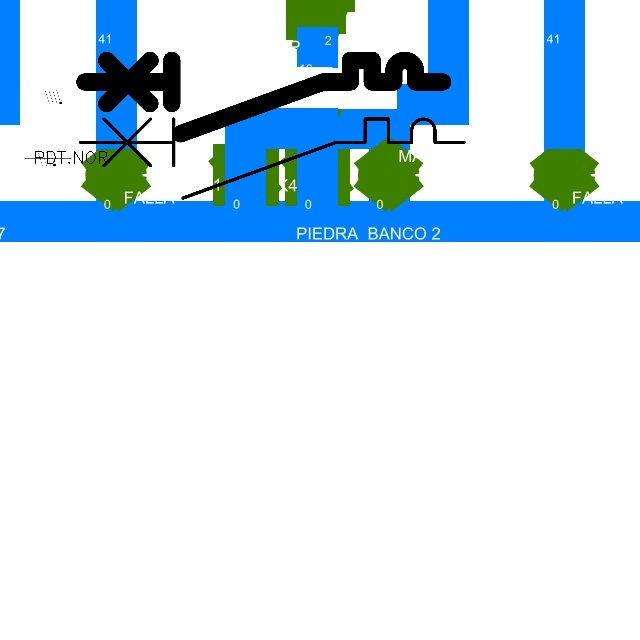interruptor_termomagnetico: (70, 109, 474, 207), (75, 51, 451, 143)
